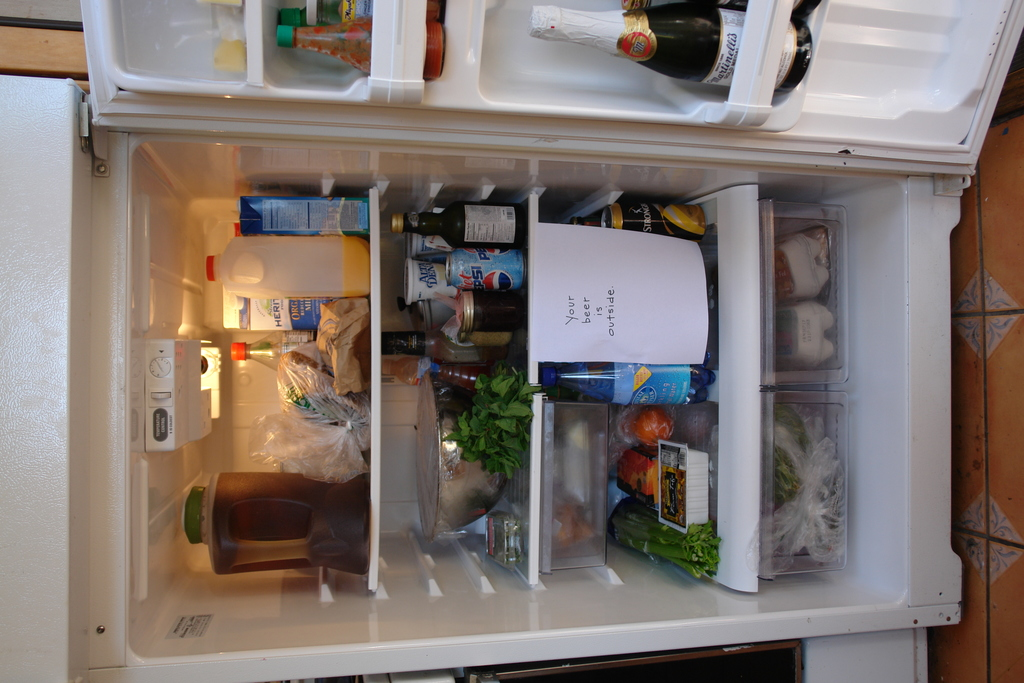refrigerator door: (94, 9, 1001, 143)
